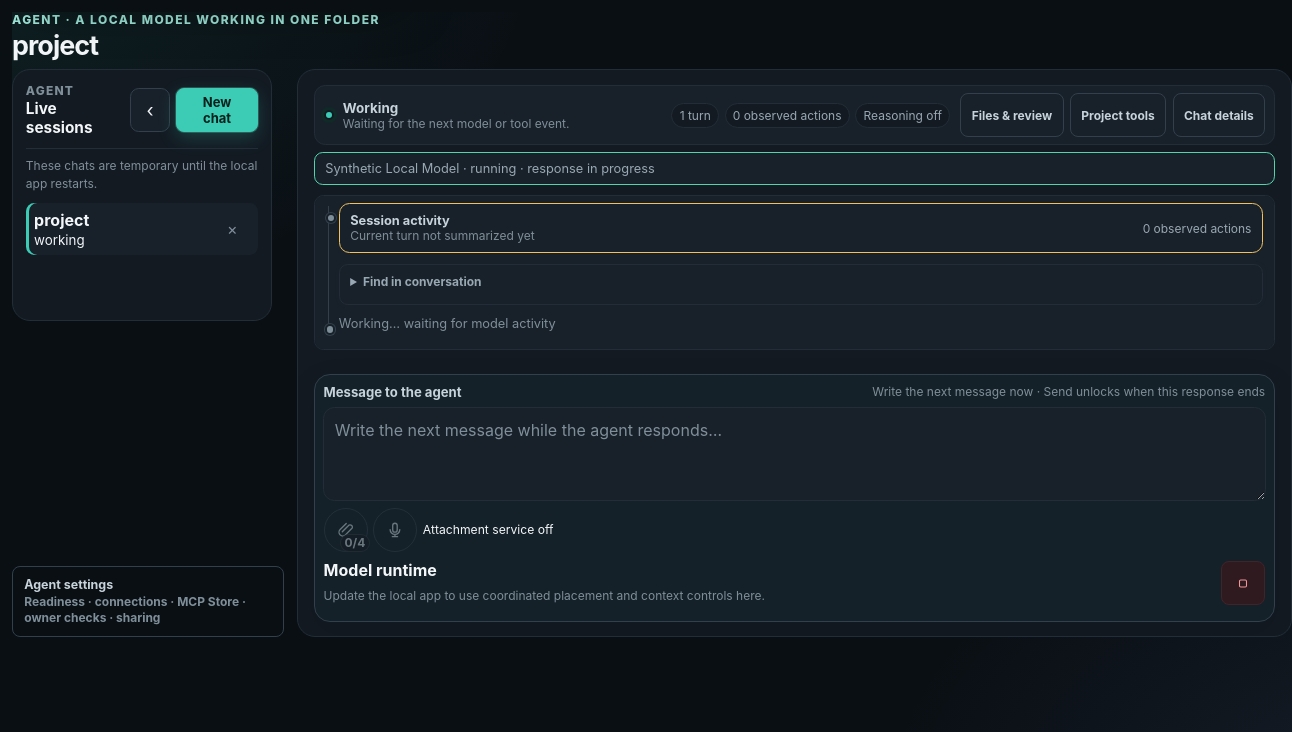
Scenario: request-owned Agent Stop › keeps the next-message draft editable while a response runs and unlocks Send afterward
(page scrolled)
Expected: the text "Write the next message now · Send unlocks when this response ends" is shown, [872,384,1265,400]
Step 1. Type "Example instruction for the next turn" into the text box labelled "Message to the agent" → (794, 454), box [324,408,1265,500]
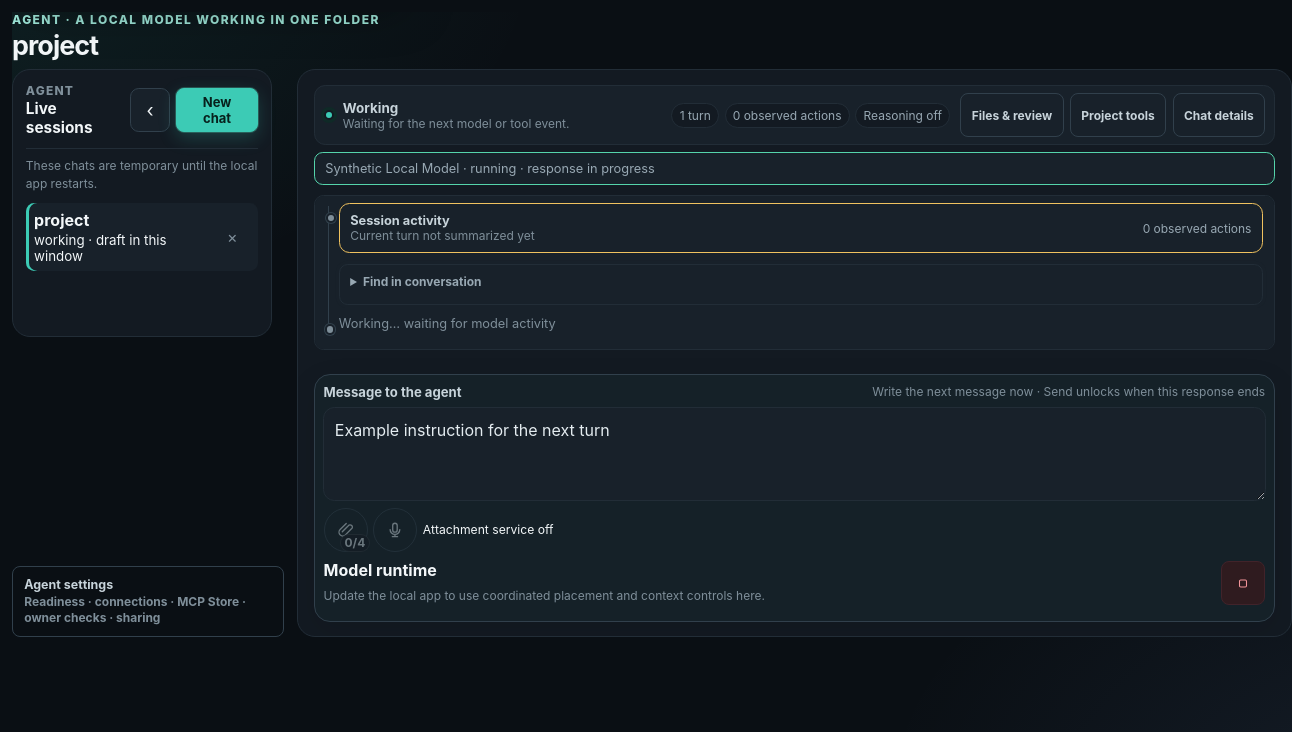
Step 2. Press Enter in the text box labelled "Message to the agent", box [324,408,1265,500]
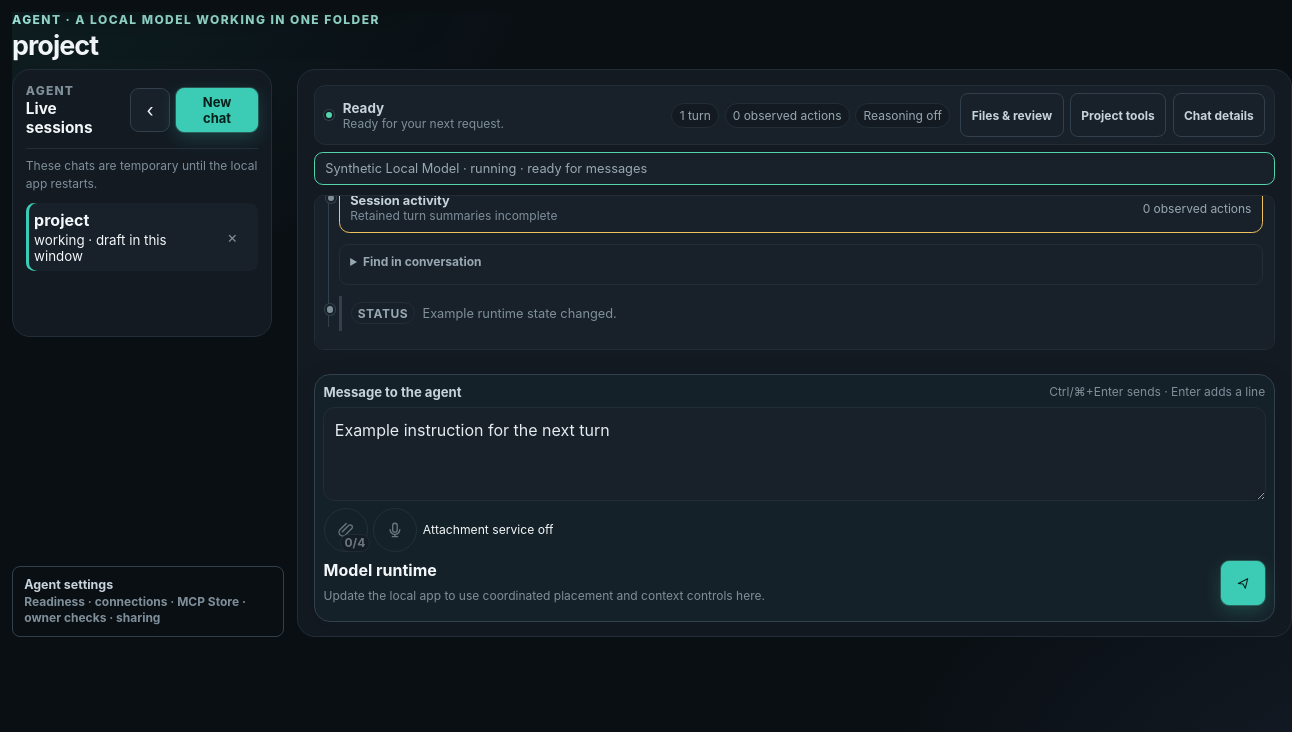
Expected: the button named "Send" is enabled, [1221,561,1265,605]
Result: the text "Ctrl/⌘+Enter sends · Enter adds a line" is shown at [1049,384,1265,400]
